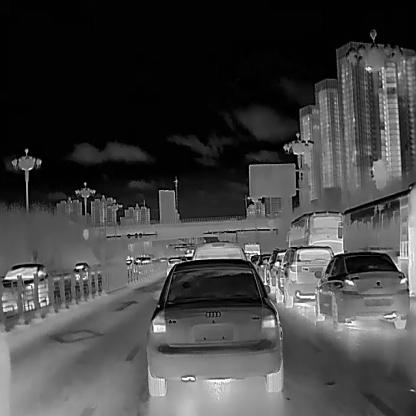bus: (336, 181, 416, 298), (285, 208, 345, 256), (242, 240, 262, 258)
car: (144, 256, 284, 396), (312, 248, 409, 330), (274, 245, 336, 307), (0, 261, 52, 310), (263, 247, 289, 292), (192, 239, 245, 261), (72, 260, 90, 280), (166, 256, 186, 274)
